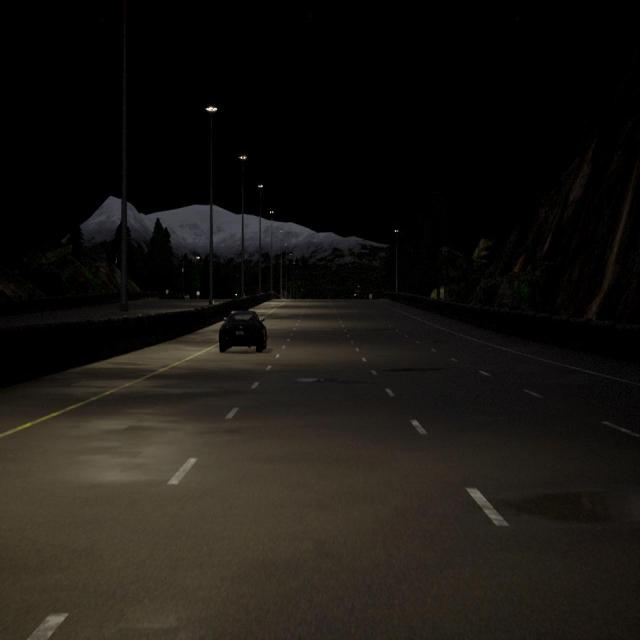Vehicle: (219, 310, 267, 352)
